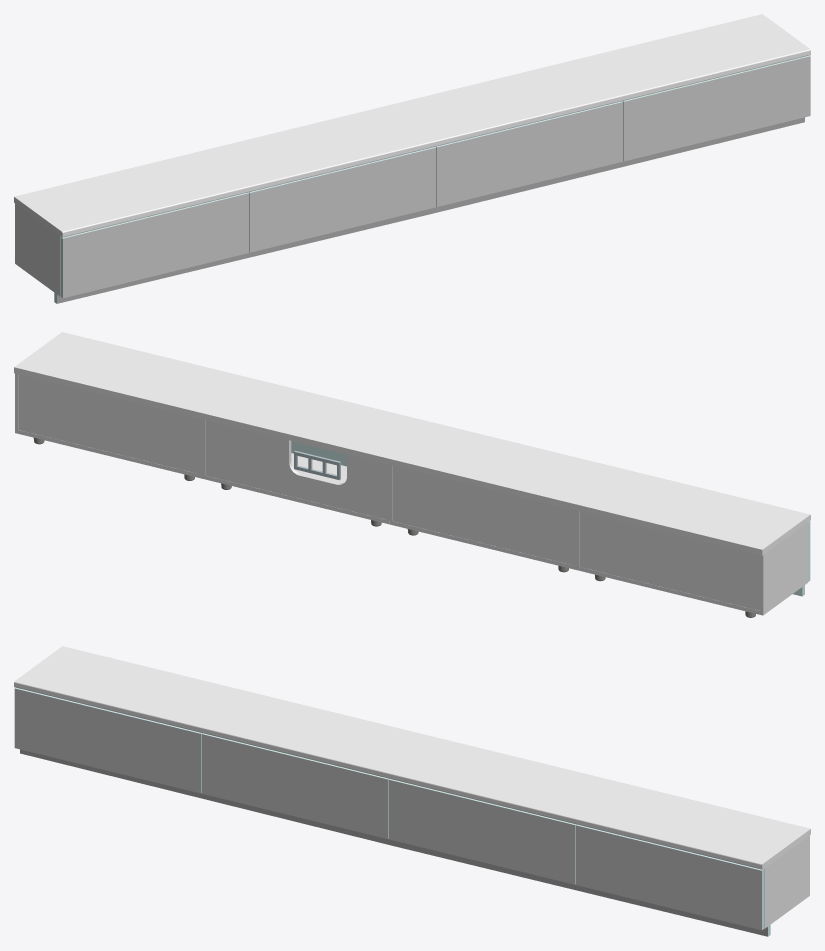
3 renders of one model, top to bottom at view 1: azimuth 30°, elevation 25°; view 2: azimuth 150°, elevation 25°; view 3: azimuth 330°, elevation 25°, orthographic.
Parts seen in each view (by area): view 1: Shape_IndexedFaceSet.071, Shape_IndexedFaceSet.270, Shape_IndexedFaceSet.123, Shape_IndexedFaceSet.052, Shape_IndexedFaceSet.158, Shape_IndexedFaceSet.065, Shape_IndexedFaceSet.294, Shape_IndexedFaceSet.292; view 2: Shape_IndexedFaceSet.071, Shape_IndexedFaceSet.125, Shape_IndexedFaceSet.272, Shape_IndexedFaceSet.054, Shape_IndexedFaceSet.181, Shape_IndexedFaceSet.065, Shape_IndexedFaceSet.057, Shape_IndexedFaceSet.275, Shape_IndexedFaceSet.162, Shape_IndexedFaceSet.128, Shape_IndexedFaceSet.164, Shape_IndexedFaceSet (+1 smaller); view 3: Shape_IndexedFaceSet.071, Shape_IndexedFaceSet.052, Shape_IndexedFaceSet.158, Shape_IndexedFaceSet.270, Shape_IndexedFaceSet.123, Shape_IndexedFaceSet.288, Shape_IndexedFaceSet.294, Shape_IndexedFaceSet.292.
Part boxes in pixels (left/top/right/bottom): Shape_IndexedFaceSet.071: left=14, top=14, right=810, bottom=237; Shape_IndexedFaceSet.270: left=624, top=56, right=810, bottom=161; Shape_IndexedFaceSet.123: left=250, top=147, right=436, bottom=252; Shape_IndexedFaceSet.052: left=63, top=193, right=249, bottom=298; Shape_IndexedFaceSet.158: left=437, top=102, right=623, bottom=206; Shape_IndexedFaceSet.065: left=15, top=203, right=59, bottom=292; Shape_IndexedFaceSet.294: left=431, top=117, right=804, bottom=213; Shape_IndexedFaceSet.292: left=57, top=208, right=430, bottom=303; Shape_IndexedFaceSet.071: left=14, top=332, right=810, bottom=555; Shape_IndexedFaceSet.125: left=393, top=465, right=572, bottom=564; Shape_IndexedFaceSet.272: left=19, top=374, right=198, bottom=473; Shape_IndexedFaceSet.054: left=580, top=511, right=759, bottom=610; Shape_IndexedFaceSet.181: left=206, top=420, right=385, bottom=519; Shape_IndexedFaceSet.065: left=763, top=523, right=807, bottom=611; Shape_IndexedFaceSet.057: left=576, top=566, right=763, bottom=615; Shape_IndexedFaceSet.275: left=15, top=429, right=201, bottom=478; Shape_IndexedFaceSet.162: left=202, top=475, right=388, bottom=524; Shape_IndexedFaceSet.128: left=389, top=520, right=575, bottom=569; Shape_IndexedFaceSet.164: left=214, top=453, right=383, bottom=519; Shape_IndexedFaceSet: left=294, top=450, right=340, bottom=480; Shape_IndexedFaceSet.071: left=14, top=646, right=810, bottom=869; Shape_IndexedFaceSet.052: left=14, top=688, right=200, bottom=793; Shape_IndexedFaceSet.158: left=388, top=780, right=574, bottom=884; Shape_IndexedFaceSet.270: left=575, top=825, right=761, bottom=930; Shape_IndexedFaceSet.123: left=201, top=734, right=387, bottom=838; Shape_IndexedFaceSet.288: left=765, top=835, right=809, bottom=924; Shape_IndexedFaceSet.294: left=394, top=840, right=767, bottom=936; Shape_IndexedFaceSet.292: left=20, top=749, right=393, bottom=845.
Size of the model in its own units: 3.69 by 0.365 by 0.416.
